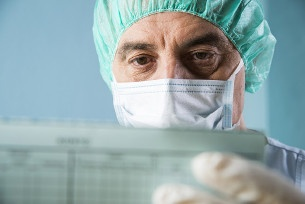Mask: (107, 32, 249, 174)
